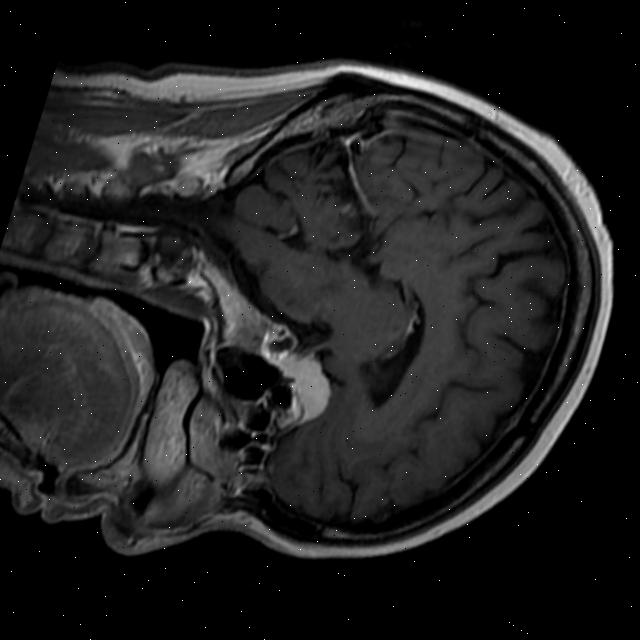Meningioma: (267, 349, 343, 434)
